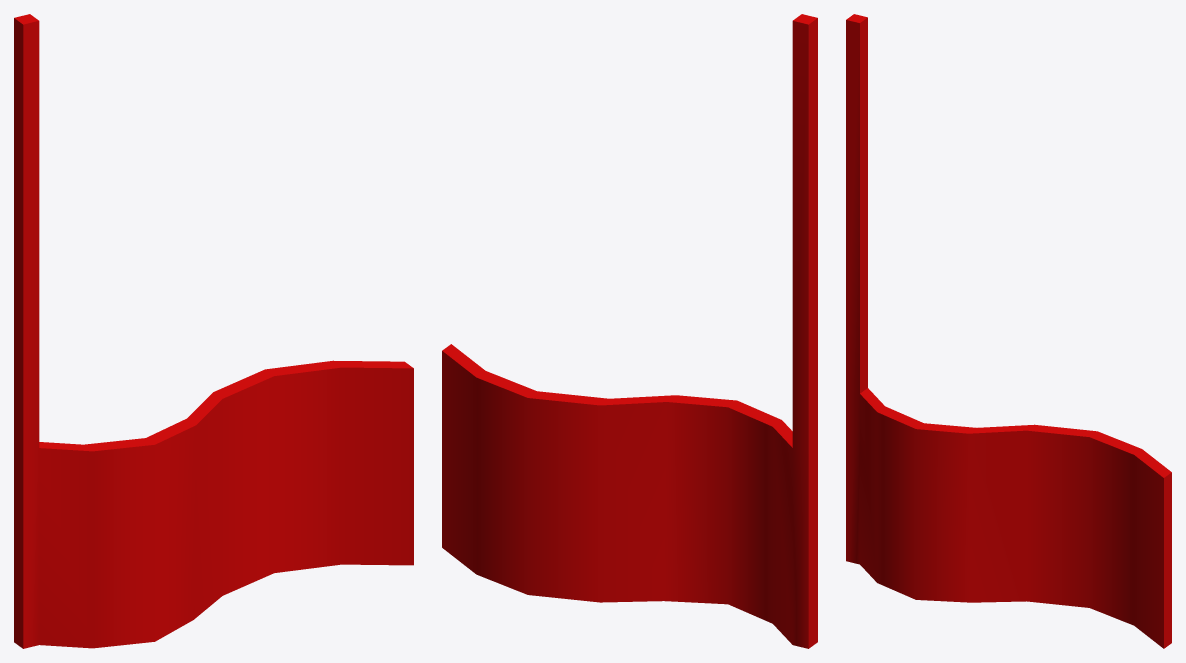
The model's file is Flag.fbx.
3 views of the same model, side by side, from view 1: azimuth 30°, elevation 25°; view 2: azimuth 150°, elevation 25°; view 3: azimuth 330°, elevation 25° (orthographic). The views are drawn at different scales.
Visible parts, largest first — view 1: pCube3; view 2: pCube3; view 3: pCube3.
Part boxes in pixels (x1,y1,x2,y2): pCube3: (14, 14, 413, 648); pCube3: (442, 14, 817, 648); pCube3: (846, 14, 1171, 648).
Size of the model in its own units: 23.7 by 37.34 by 5.39.
